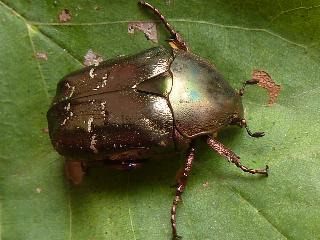Protaetia_fieberi: (43, 1, 272, 240)
